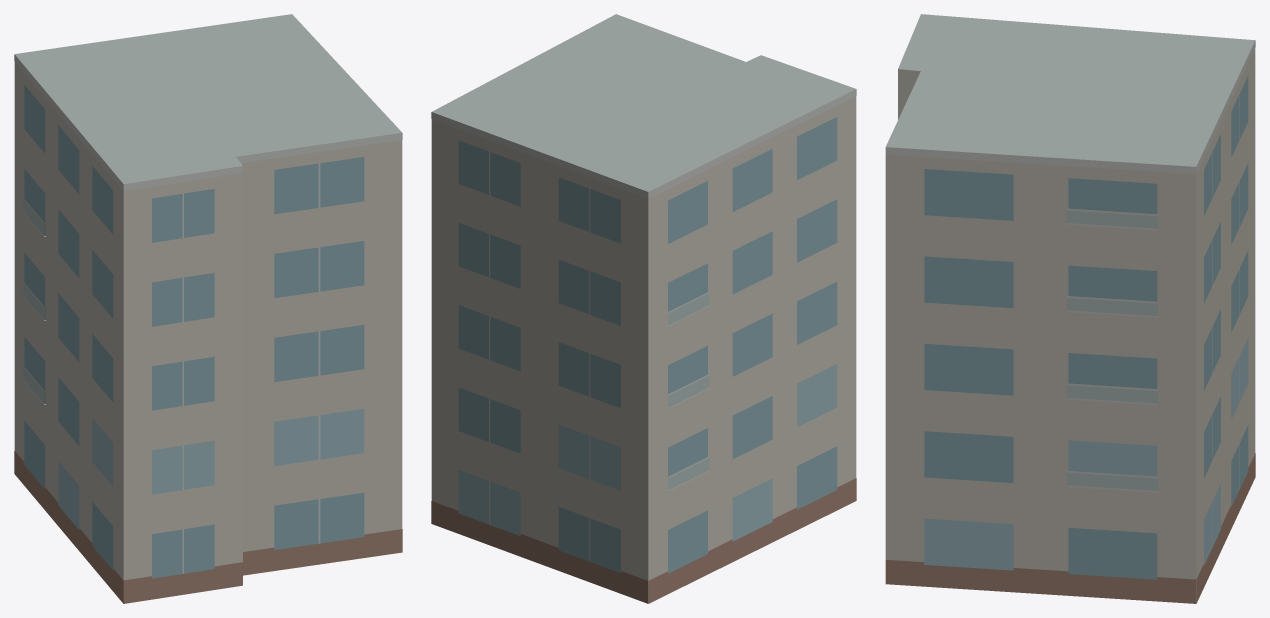
Rendered from survey-upis-32645503.glb.
3 renders of one model, left to right at view 1: azimuth 30°, elevation 25°; view 2: azimuth 150°, elevation 25°; view 3: azimuth 270°, elevation 25°, orthographic. The views are drawn at different scales.
Parts seen in each view (by area): view 1: survey-upis-32645503.tmp; view 2: survey-upis-32645503.tmp; view 3: survey-upis-32645503.tmp.
Part boxes in pixels (<box>): survey-upis-32645503.tmp: <box>14,14,402,603</box>; survey-upis-32645503.tmp: <box>431,14,856,603</box>; survey-upis-32645503.tmp: <box>885,14,1255,603</box>.
Size of the model in its own units: 10.81 by 14.4 by 11.06.
